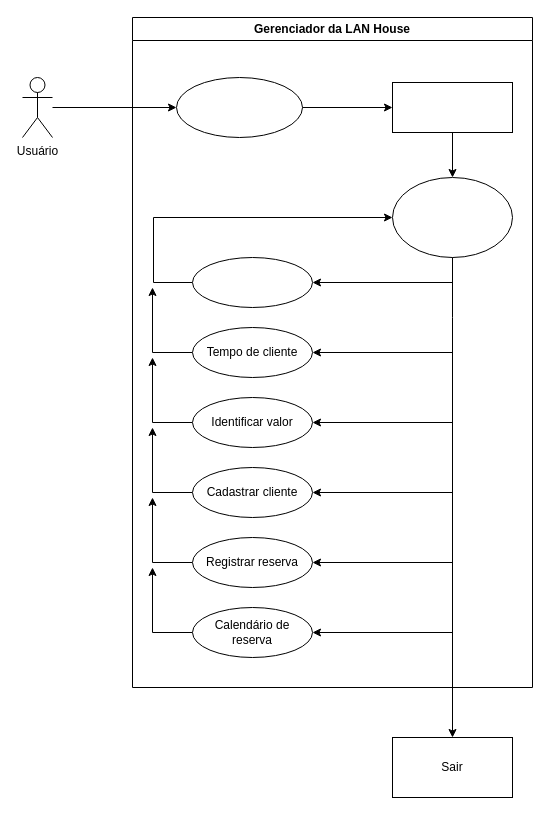
Image size: 550x815. Some labels were removed from this diagram. The shapes that lost their labels are listed below. From the top down, each one's box as (x1, y1, x2, y2) in pixels, then its label:
(176, 76, 302, 138): Pedido do Login
(392, 82, 512, 132): Verificação do login
(392, 176, 512, 258): Menu
(192, 256, 312, 308): Computadores em uso
